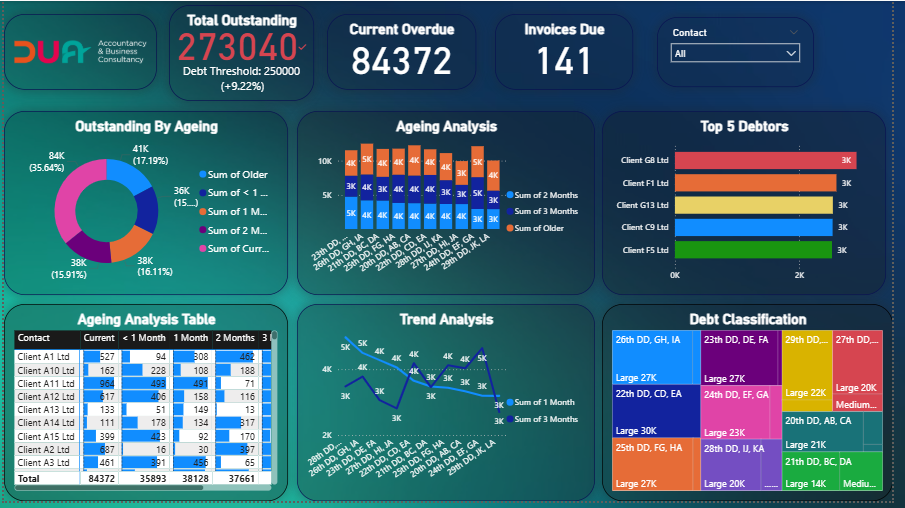

What the dashboard file says about the page in this screenshot:
{"tool":"powerbi","page":{"name":"Debt Dashboard","canvas":[1280,720],"ordinal":0},"visuals":[{"type":"kpi","title":"Total Outstanding","fields":{"TrendLine":["Debt Fake data.Column10"],"Goal":["Debt Fake data.Debt Threshold"],"Indicator":["Debt Fake data.Total Outstanding Debt"]},"box":[237.6,5.8,208.8,138.2],"z":0},{"type":"kpi","title":"Current Overdue","fields":{"Indicator":["Sum(Debt Fake data.Current)"],"TrendLine":["Debt Fake data.Column11"]},"box":[465.1,18.7,214.6,109.4],"z":1000},{"type":"kpi","title":"Invoices Due","fields":{"Indicator":["Count(Debt Fake data.Total)"],"TrendLine":["Debt Fake data.Column10"]},"box":[707,18.7,198.7,109.4],"z":2000},{"type":"donutChart","title":"Outstanding By Ageing","fields":{"Y":["Sum(Debt Fake data.Older)","Sum(Debt Fake data.< 1 Month)","Sum(Debt Fake data.1 Month)","Sum(Debt Fake data.2 Months)","Sum(Debt Fake data.Current)"]},"box":[0,158.4,409,265],"z":3000},{"type":"clusteredBarChart","title":"Top 5 Debtors","fields":{"Category":["Debt Fake data.Contact"],"Y":["Sum(Debt Fake data.Total)"]},"box":[861.1,158.4,409,265],"z":4000},{"type":"lineChart","title":"Trend Analysis","fields":{"Y":["Sum(Debt Fake data.1 Month)","Sum(Debt Fake data.3 Months)"],"Category":["Debt Fake data.Category"]},"box":[421.9,436.3,429.1,283.7],"z":5000},{"type":"treemap","title":"Debt Classification","fields":{"Values":["Sum(Debt Fake data.Total)"],"Group":["Debt Fake data.Category"],"Details":["Debt Fake data.Debt Size"]},"box":[861.1,436.3,419,283.7],"z":6000},{"type":"pivotTable","title":"Ageing Analysis Table","fields":{"Values":["Sum(Debt Fake data.Current)","Sum(Debt Fake data.< 1 Month)","Sum(Debt Fake data.1 Month)","Sum(Debt Fake data.2 Months)","Sum(Debt Fake data.3 Months)","Sum(Debt Fake data.Older)"],"Rows":["Debt Fake data.Contact"]},"box":[0,436.3,409,283.7],"z":7000},{"type":"columnChart","title":"Ageing Analysis","fields":{"Y":["Sum(Debt Fake data.2 Months)","Sum(Debt Fake data.3 Months)","Sum(Debt Fake data.Older)"],"Category":["Debt Fake data.Category"]},"box":[421.9,158.4,429.1,265],"z":8000},{"type":"image","box":[0,18.7,220.3,109.4],"z":9000},{"type":"slicer","fields":{"Values":["Debt Fake data.Contact"]},"box":[940.3,23,226.1,100.8],"z":10000}]}

Visuals, with their boxes in screenshot pixels (x1, y1, x2, y2), scaled from the page's 1280x720 canvas onto the 905x508 screenshot:
"Total Outstanding" kpi: (x1=168, y1=4, x2=316, y2=102)
"Current Overdue" kpi: (x1=329, y1=13, x2=481, y2=90)
"Invoices Due" kpi: (x1=500, y1=13, x2=640, y2=90)
"Outstanding By Ageing" donutChart: (x1=0, y1=112, x2=289, y2=299)
"Top 5 Debtors" clusteredBarChart: (x1=609, y1=112, x2=898, y2=299)
"Trend Analysis" lineChart: (x1=298, y1=308, x2=602, y2=507)
"Debt Classification" treemap: (x1=609, y1=308, x2=904, y2=507)
"Ageing Analysis Table" pivotTable: (x1=0, y1=308, x2=289, y2=507)
"Ageing Analysis" columnChart: (x1=298, y1=112, x2=602, y2=299)
image: (x1=0, y1=13, x2=156, y2=90)
slicer - Debt Fake data.Contact: (x1=665, y1=16, x2=825, y2=87)
